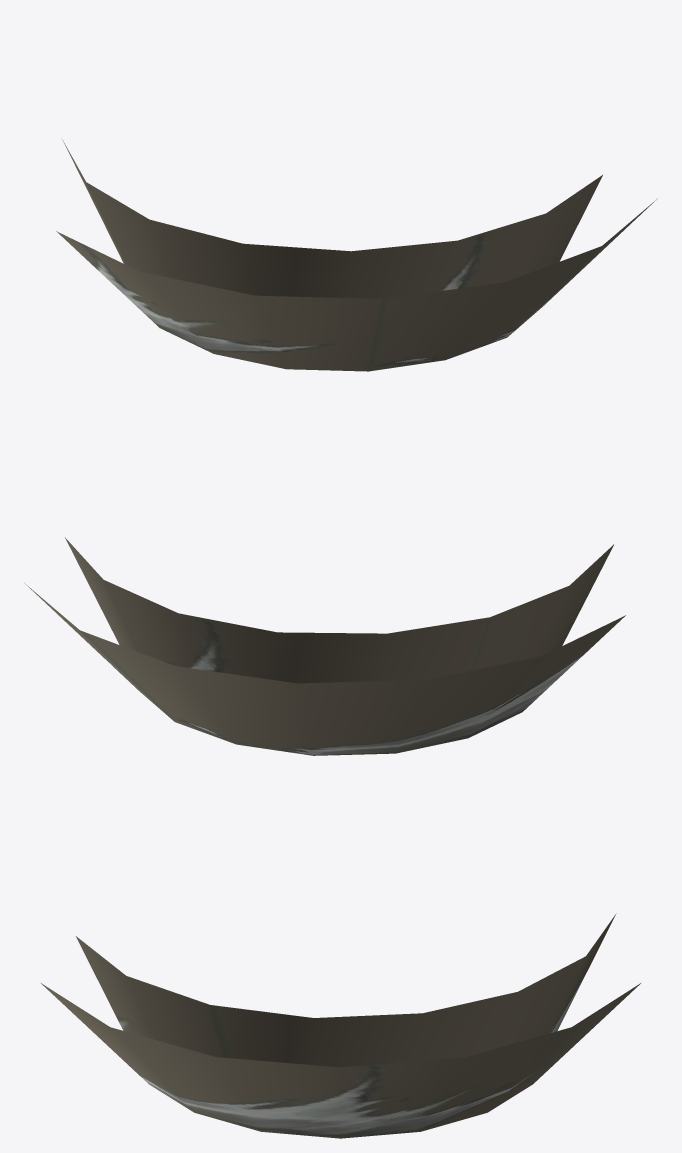
File: l_p_004c huoyan.glb
The picture shows the model from 3 angles, top to bottom: view 1: azimuth 30°, elevation 25°; view 2: azimuth 150°, elevation 25°; view 3: azimuth 270°, elevation 25°; orthographic projection.
Parts seen in each view (by area): view 1: model; view 2: model; view 3: model.
Part boxes in pixels (box(x1,y1,x2,y2)): model: box(56, 139, 657, 371); model: box(24, 537, 625, 755); model: box(41, 913, 640, 1138).
Bounding box in the file's own units: 2.7 × 0.6836 × 2.71.
Materials: 2 (2 with a texture image).
